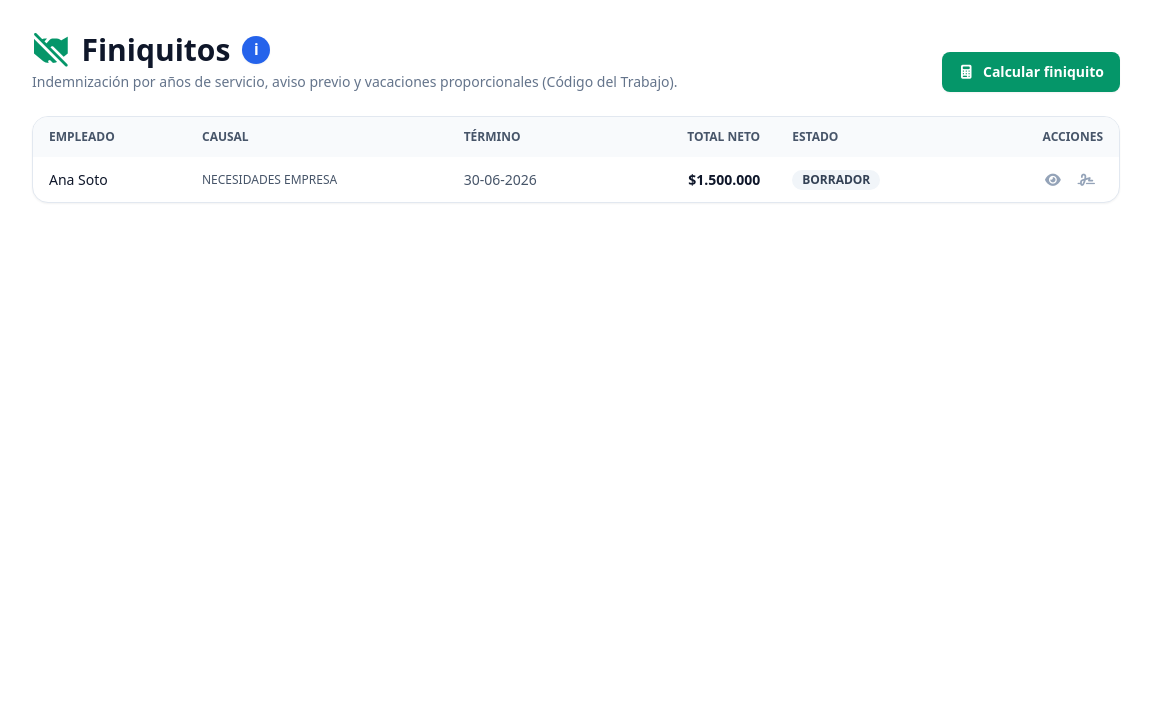
Test: FiniquitosRrhh › ver detalle abre el modal con los datos del finiquito
Expected: the text "Ana Soto" is shown, left=33, top=157, right=186, bottom=202
Click the button titled "Ver detalle": coordinates (1053, 180) left=1036, top=170, right=1070, bottom=190
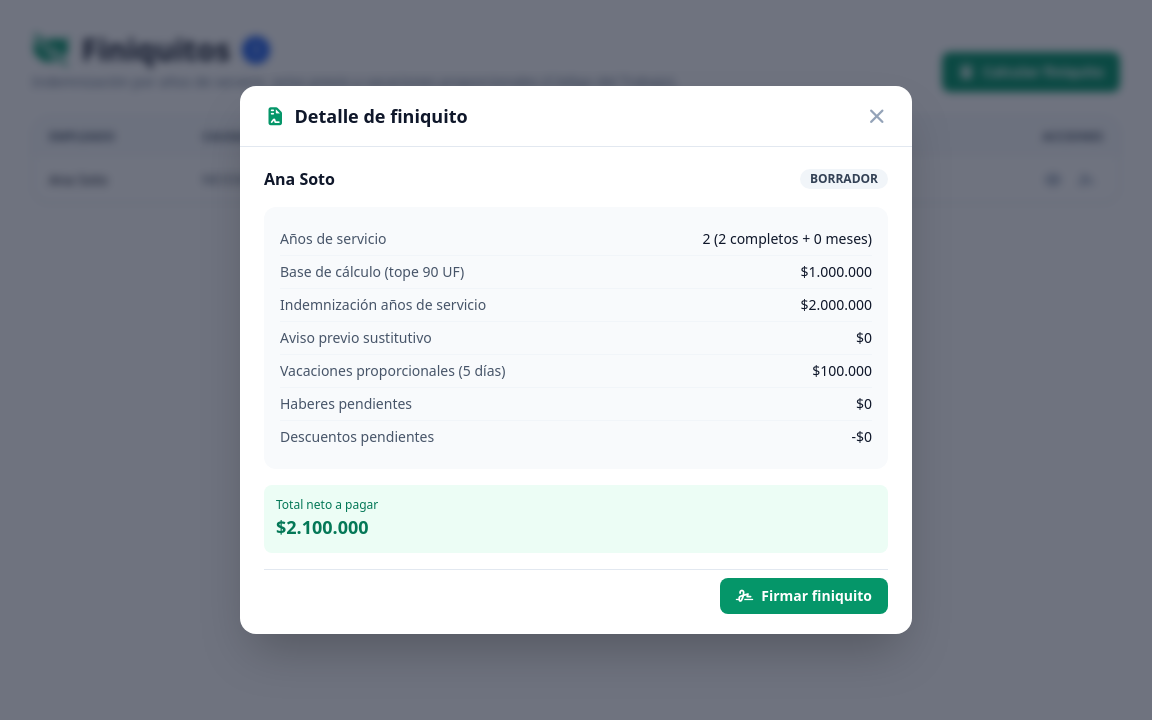
Expected: the heading "Detalle de finiquito" is shown, left=264, top=102, right=468, bottom=130
Expected: the text "Total neto a pagar" is shown, left=276, top=496, right=378, bottom=513
